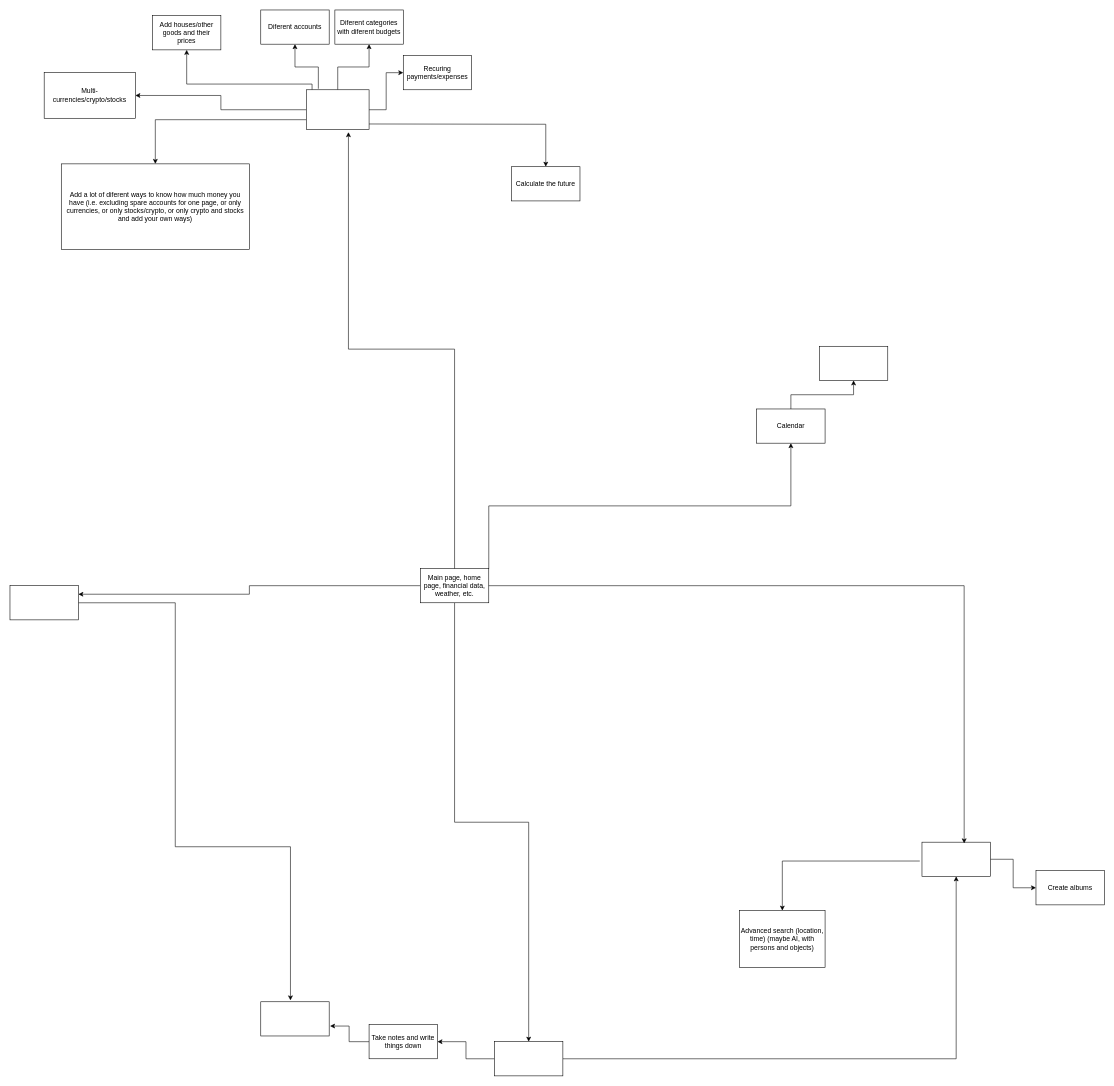
Image size: 1114x1086. Some labels were removed from this diagram. The box of each missing label's shape, as (x1, y1, x2, y2) in pixels:
Access to certain files: (260, 1001, 329, 1036)
Ai ChatBot: (9, 585, 78, 620)
File storage: (494, 1041, 563, 1076)
Notifications: (819, 346, 888, 380)
Personal finance app: (306, 89, 369, 130)
Pictures storage (select folders from the files storage): (921, 842, 990, 876)
